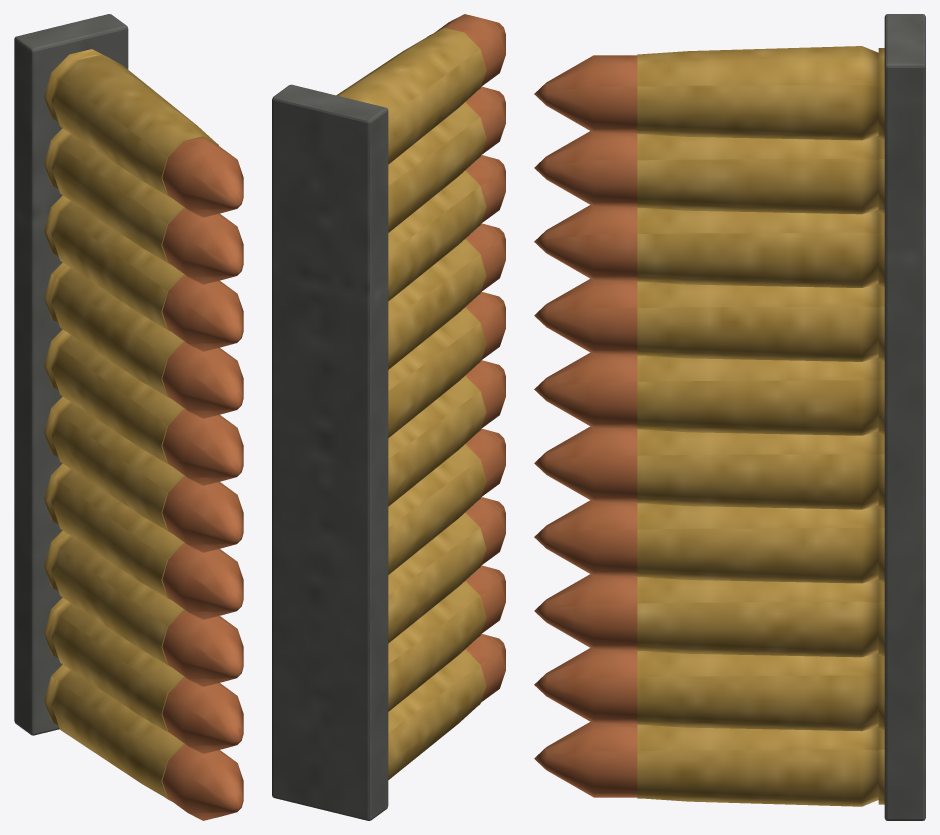
File: clip_c96.glb
The picture shows the model from 3 angles, left to right: view 1: azimuth 30°, elevation 25°; view 2: azimuth 150°, elevation 25°; view 3: azimuth 270°, elevation 25°; orthographic projection. The views are drawn at different scales.
Parts seen in each view (by area): view 1: clip_c96; view 2: clip_c96; view 3: clip_c96.
Boxes of the visible parts, x1,y1,x2,y2 form: clip_c96: (14,14,243,820); clip_c96: (272,14,505,820); clip_c96: (534,14,925,820).
Bounding box in the file's own units: 0.012 × 0.0815 × 0.038.
Materials: 3 (3 with a texture image).
